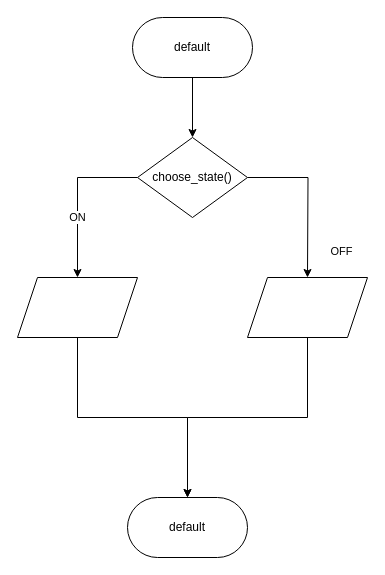
This 385x575 diagram has some shape labels left out. The centre of each missing label's shape, as x and y in pixels:
"idle()" belongs at pixel 307 307.
"send()" belongs at pixel 77 307.
